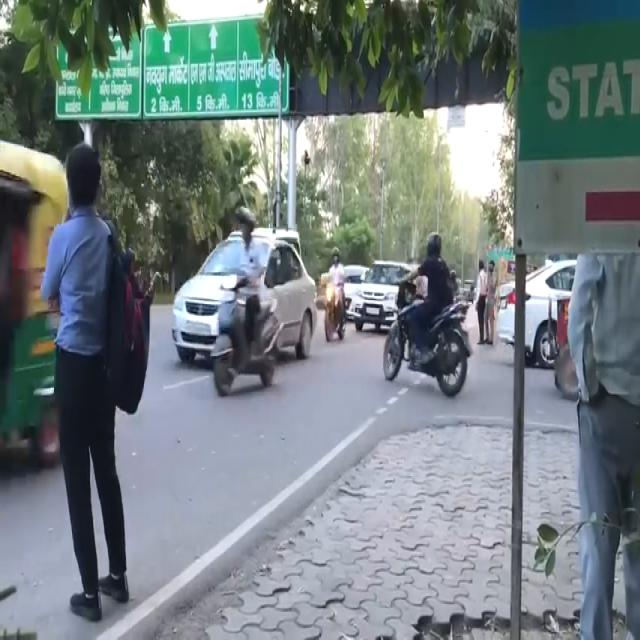MOTORCYCLE: (382, 276, 471, 402), (215, 276, 275, 390), (322, 280, 350, 341)
